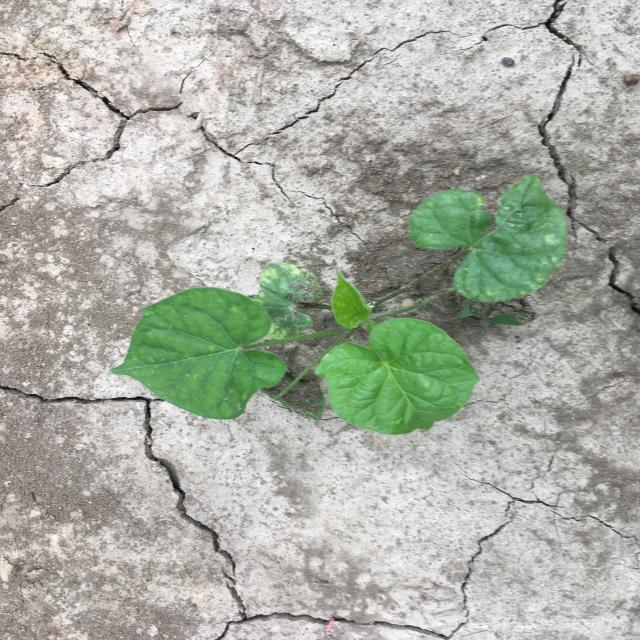MorningGlory: (109, 174, 568, 435)
